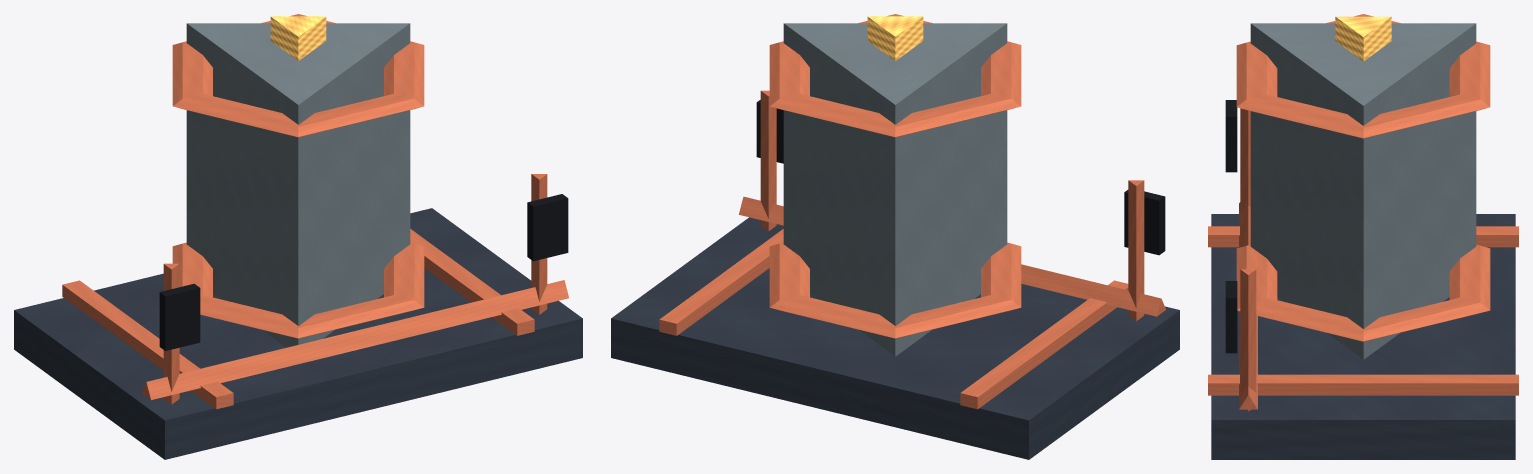
The model's file is atlas100-s021-a06.lod2.glb.
3 renders of one model, left to right at view 1: azimuth 30°, elevation 25°; view 2: azimuth 150°, elevation 25°; view 3: azimuth 270°, elevation 25°, orthographic.
Parts seen in each view (by area): view 1: atlas100-s021-a06:part-003, atlas100-s021-a06:part-000, atlas100-s021-a06:part-005, atlas100-s021-a06:part-012, atlas100-s021-a06:part-004, atlas100-s021-a06:part-001, atlas100-s021-a06:part-002, atlas100-s021-a06:part-009, atlas100-s021-a06:part-011, atlas100-s021-a06:part-006, atlas100-s021-a06:part-008, atlas100-s021-a06:part-010; view 2: atlas100-s021-a06:part-003, atlas100-s021-a06:part-000, atlas100-s021-a06:part-005, atlas100-s021-a06:part-004, atlas100-s021-a06:part-001, atlas100-s021-a06:part-012, atlas100-s021-a06:part-002, atlas100-s021-a06:part-008, atlas100-s021-a06:part-010, atlas100-s021-a06:part-006, atlas100-s021-a06:part-009, atlas100-s021-a06:part-011; view 3: atlas100-s021-a06:part-003, atlas100-s021-a06:part-000, atlas100-s021-a06:part-005, atlas100-s021-a06:part-004, atlas100-s021-a06:part-002, atlas100-s021-a06:part-010, atlas100-s021-a06:part-006, atlas100-s021-a06:part-001, atlas100-s021-a06:part-012, atlas100-s021-a06:part-008, atlas100-s021-a06:part-011, atlas100-s021-a06:part-009.
Part boxes in pixels (x1,y1,x2,y2): atlas100-s021-a06:part-003: (186, 23, 410, 347); atlas100-s021-a06:part-000: (14, 208, 582, 459); atlas100-s021-a06:part-005: (172, 14, 424, 137); atlas100-s021-a06:part-012: (142, 280, 568, 399); atlas100-s021-a06:part-004: (172, 242, 424, 338); atlas100-s021-a06:part-001: (62, 280, 233, 409); atlas100-s021-a06:part-002: (410, 229, 534, 335); atlas100-s021-a06:part-009: (159, 283, 200, 350); atlas100-s021-a06:part-011: (527, 194, 568, 261); atlas100-s021-a06:part-006: (270, 16, 326, 60); atlas100-s021-a06:part-008: (163, 263, 179, 404); atlas100-s021-a06:part-010: (531, 174, 547, 314); atlas100-s021-a06:part-003: (783, 23, 1007, 356); atlas100-s021-a06:part-000: (611, 217, 1179, 459); atlas100-s021-a06:part-005: (769, 14, 1021, 137); atlas100-s021-a06:part-004: (769, 242, 1021, 338); atlas100-s021-a06:part-001: (960, 280, 1128, 409); atlas100-s021-a06:part-012: (739, 196, 1165, 316); atlas100-s021-a06:part-002: (659, 229, 783, 335); atlas100-s021-a06:part-008: (1128, 180, 1144, 320); atlas100-s021-a06:part-010: (760, 90, 776, 231); atlas100-s021-a06:part-006: (867, 16, 923, 60); atlas100-s021-a06:part-009: (1124, 190, 1165, 255); atlas100-s021-a06:part-011: (756, 100, 783, 163); atlas100-s021-a06:part-003: (1250, 23, 1476, 359); atlas100-s021-a06:part-000: (1211, 214, 1515, 459); atlas100-s021-a06:part-005: (1236, 14, 1490, 138); atlas100-s021-a06:part-004: (1236, 244, 1490, 341); atlas100-s021-a06:part-002: (1208, 374, 1518, 395); atlas100-s021-a06:part-010: (1240, 269, 1256, 411); atlas100-s021-a06:part-006: (1335, 16, 1391, 61); atlas100-s021-a06:part-001: (1208, 226, 1518, 247); atlas100-s021-a06:part-012: (1239, 202, 1257, 409); atlas100-s021-a06:part-008: (1240, 108, 1250, 211); atlas100-s021-a06:part-011: (1225, 281, 1237, 353); atlas100-s021-a06:part-009: (1225, 100, 1237, 172).
Bounding box in the file's own units: 2.88 × 2.18 × 1.84.
Materials: 5 (5 with a texture image).
